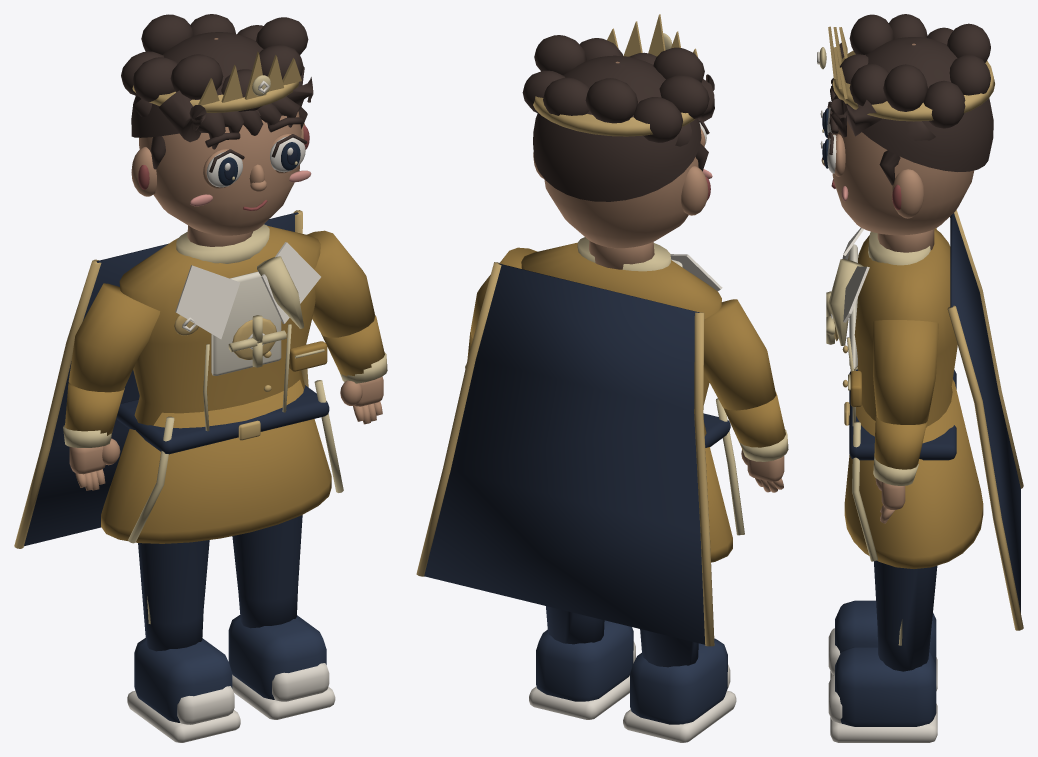
File: npc_farmtown_boss.glb
3 renders of one model, left to right at view 1: azimuth 30°, elevation 25°; view 2: azimuth 150°, elevation 25°; view 3: azimuth 270°, elevation 25°, orthographic.
Visible parts, largest first — view 1: figure.060; view 2: figure.060; view 3: figure.060.
Boxes of the visible parts, x1,y1,x2,y2 form: figure.060: (14,14,387,742); figure.060: (416,14,788,742); figure.060: (817,14,1023,742).
Size of the model in its own units: 0.9065 by 1.84 by 0.5069.
